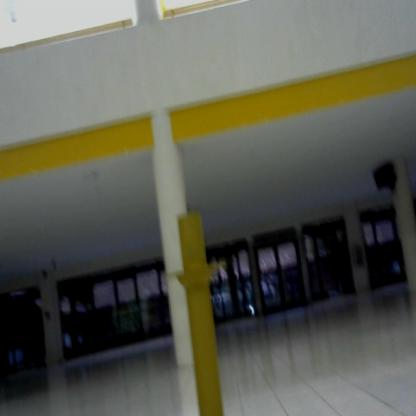pole: (163, 206, 235, 416)
